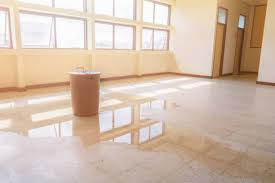Wet-floor: (40, 101, 243, 162), (180, 122, 263, 177), (108, 83, 179, 145), (4, 75, 67, 142)
